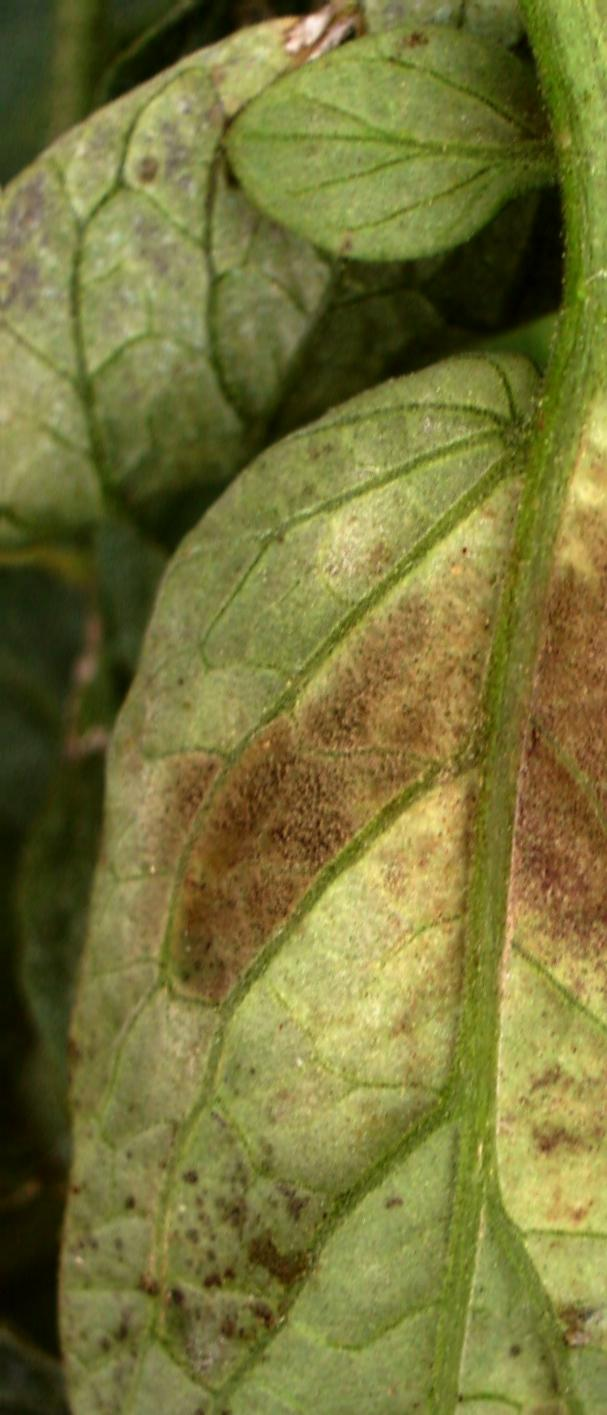Tomato mold leaf: (0, 0, 607, 1415), (0, 0, 467, 631)
